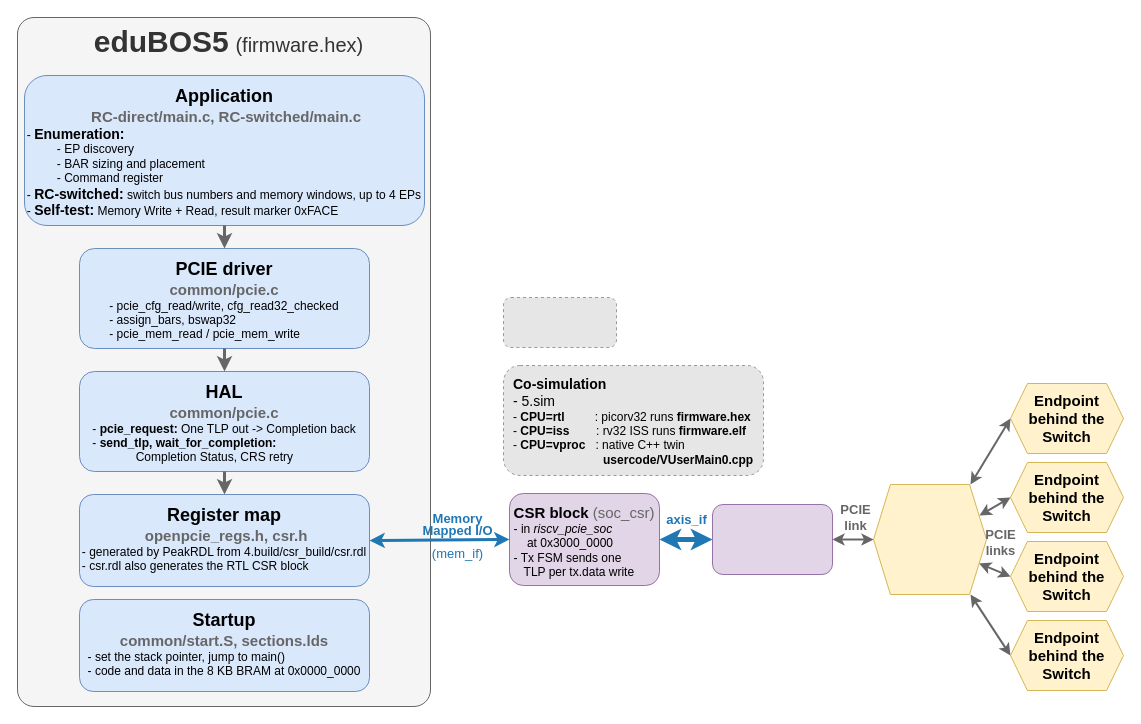
Some shapes in this 1141 by 724 pixel diagram are drawn without their labels. The shapes that lost their labels are listed below. From the top down, each one's centre as x and y in pixels, then its label:
At (x=559, y=322): "SW build - 4.build/sw_build".
At (x=772, y=539): "pcie_top - TLPs to/from the link".
At (x=929, y=539): "Direct Endpoint or a Switch Node".
